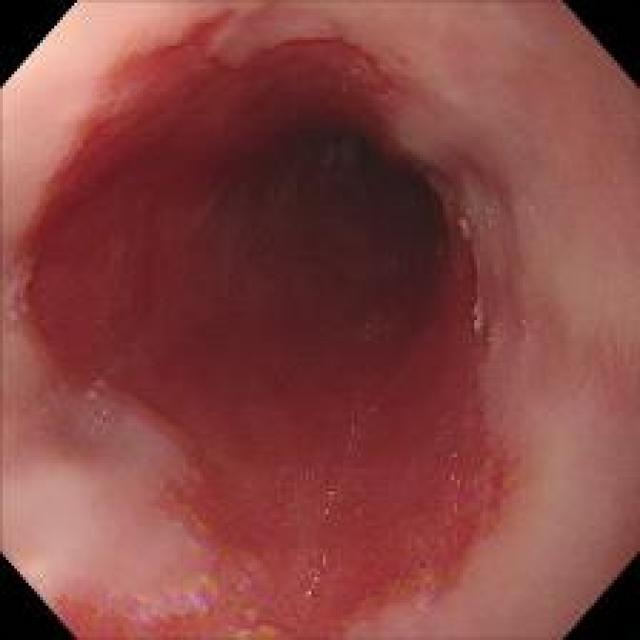bubbles: (299, 541, 338, 612), (80, 404, 115, 439), (320, 484, 345, 521), (26, 398, 50, 429), (346, 416, 361, 452)
color misalignment: (9, 250, 39, 324), (302, 550, 330, 599), (446, 446, 465, 515), (466, 300, 489, 339), (456, 212, 478, 248), (85, 406, 109, 430), (484, 202, 502, 231)
contrast: (230, 96, 470, 350)
